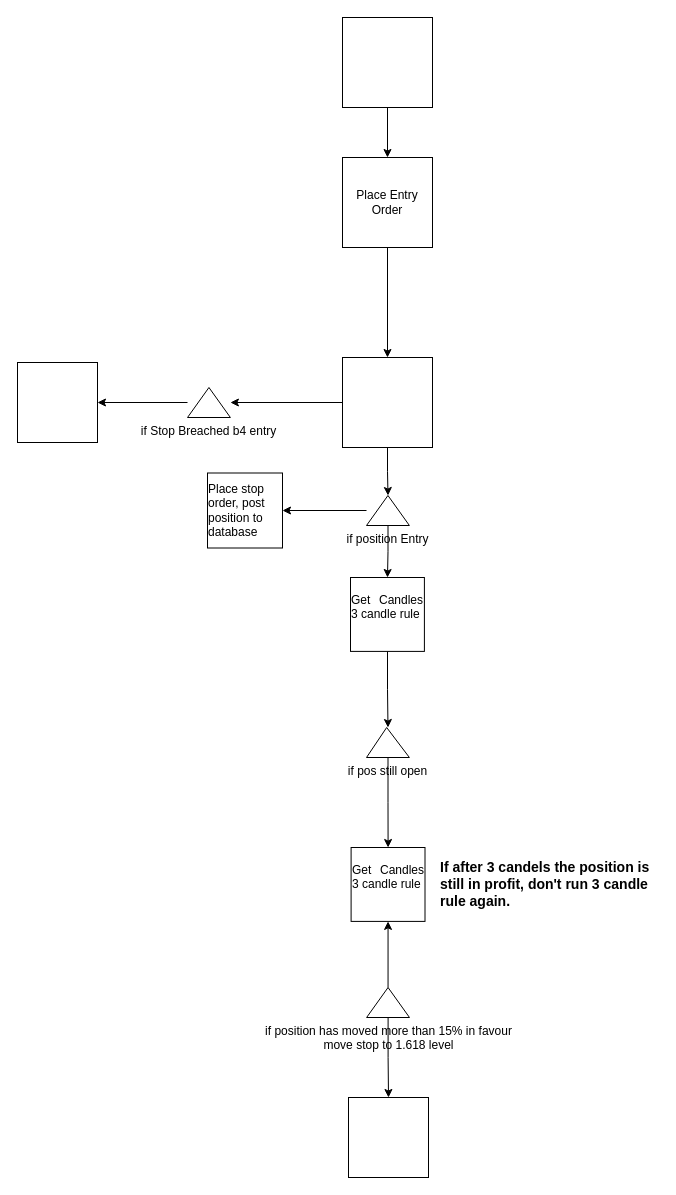
This 676x1195 diagram has some shape labels left out. Each missing label, with the centre of its shape:
"Cancel orders and return" belongs at (57,402).
"Order Input" belongs at (387,62).
"Start position management function" belongs at (387,402).
"Stop Move Function" belongs at (388,1137).
